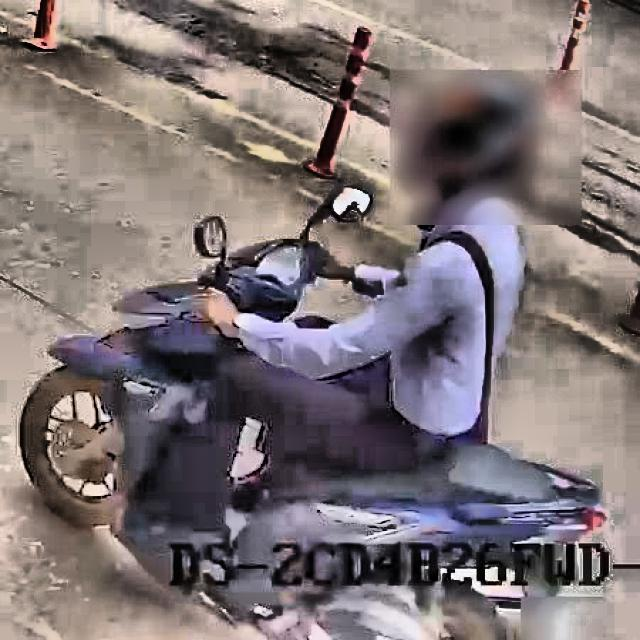motorcycle: (17, 180, 609, 640)
